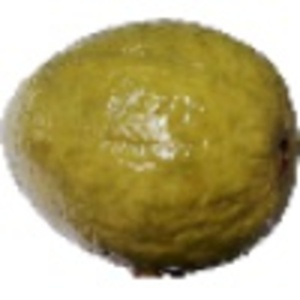goiaba: (1, 11, 299, 279)
